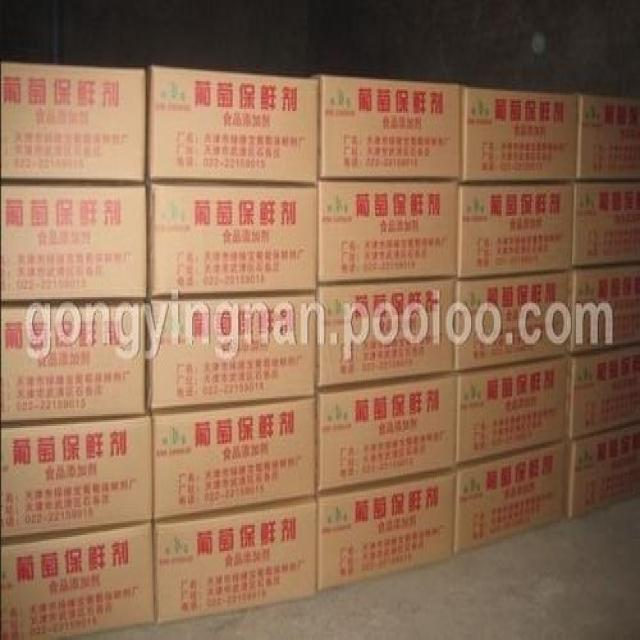box: (151, 398, 319, 522), (148, 66, 320, 185), (145, 296, 317, 412), (154, 502, 317, 623), (147, 186, 318, 300), (2, 415, 153, 541), (0, 183, 148, 304), (1, 522, 154, 638), (1, 65, 147, 185), (2, 302, 146, 423), (318, 371, 454, 497), (317, 473, 456, 594), (317, 281, 458, 389), (320, 75, 462, 180), (318, 180, 460, 284), (456, 444, 572, 557), (455, 358, 572, 468), (455, 272, 574, 372), (458, 179, 574, 281), (462, 87, 578, 182), (567, 424, 639, 519), (570, 347, 639, 440), (572, 264, 639, 355), (572, 180, 639, 268), (577, 96, 639, 179)
